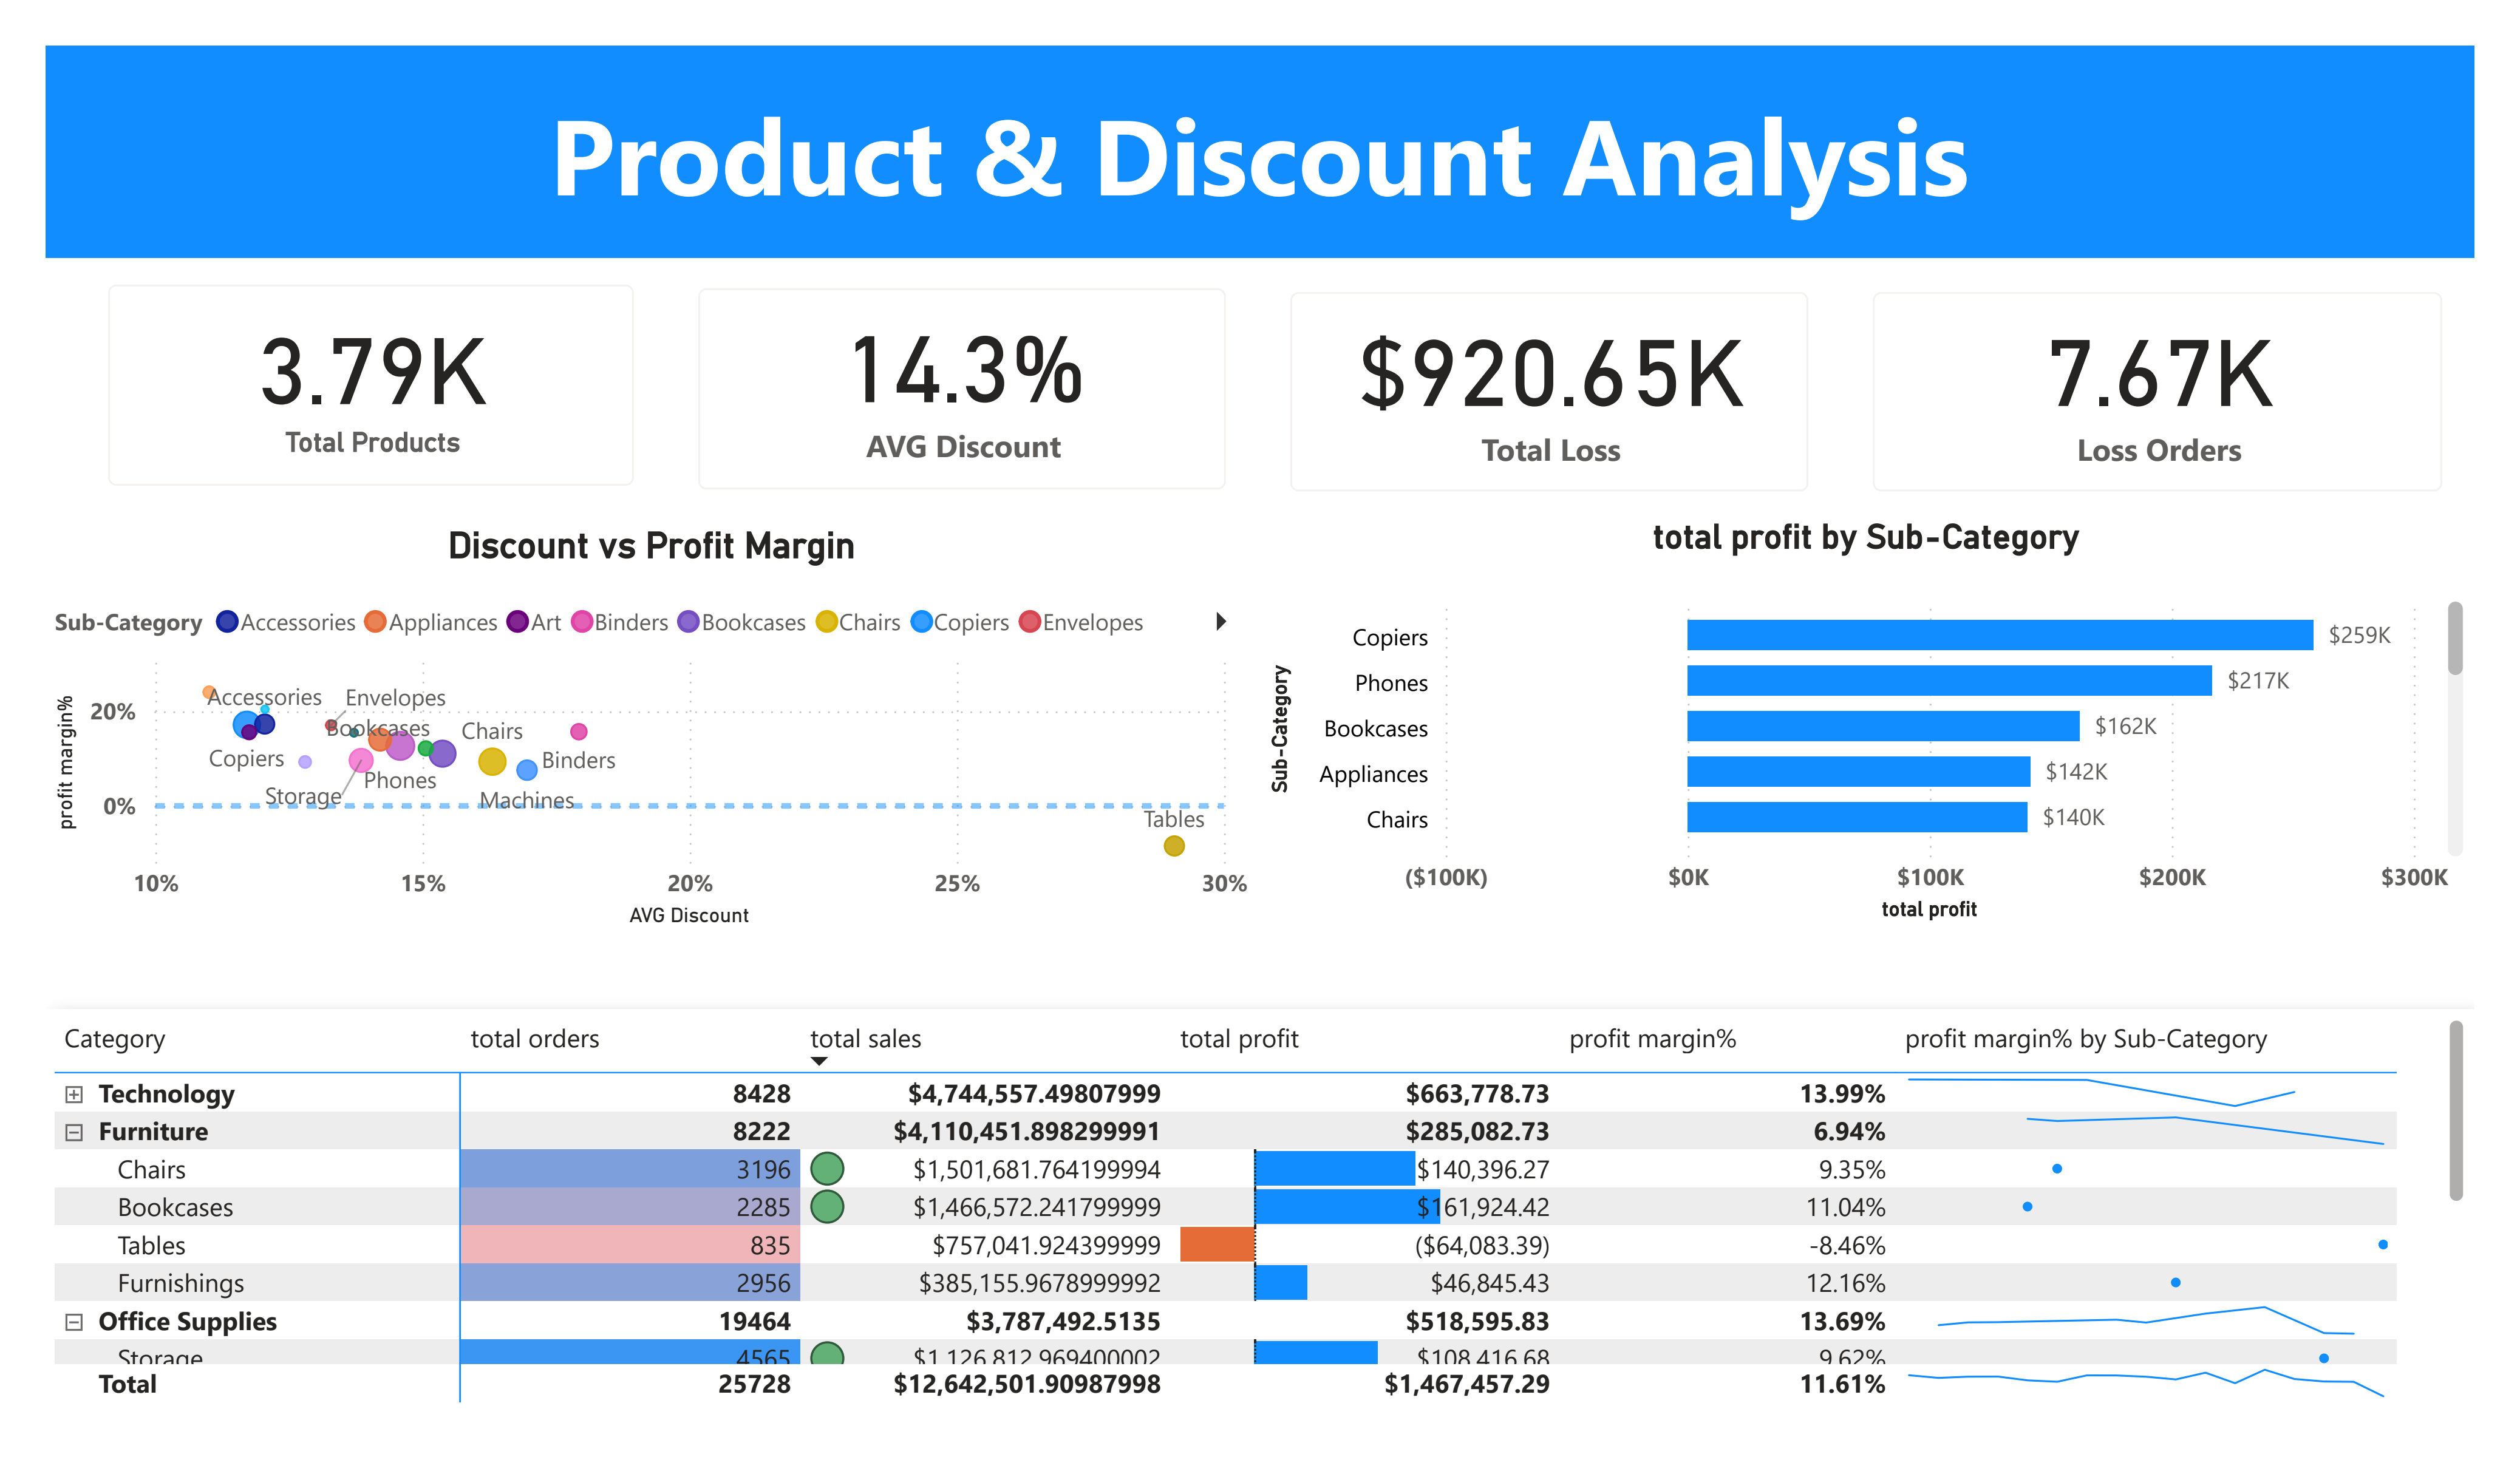

This screenshot's page, from the dashboard's own definition file:
{"tool":"powerbi","page":{"name":"product & discount ","canvas":[1280,720],"ordinal":1},"visuals":[{"type":"cardVisual","fields":{"Data":["Fact Sales.Total Products"]},"box":[16.3,109,310.5,139.8],"z":0},{"type":"cardVisual","fields":{"Data":["Fact Sales.AVG Discount"]},"box":[326.9,110.8,312.3,139.8],"z":1000},{"type":"cardVisual","fields":{"Data":["Fact Sales.TOTAL LOSE"]},"box":[639.2,112.6,306.9,139.8],"z":2000},{"type":"cardVisual","fields":{"Data":["Fact Sales.LOSSE ORDERS"]},"box":[946.1,112.6,334.1,139.8],"z":3000},{"type":"scatterChart","title":"Discount vs Profit Margin","fields":{"Y":["Fact Sales.profit margin%"],"Series":["Dim Product.Sub-Category"],"Size":["Sum(Fact Sales.Sales)"],"X":["Fact Sales.AVG Discount"]},"box":[0,252.4,639.2,217.9],"z":4000},{"type":"clusteredBarChart","fields":{"Category":["Dim Product.Sub-Category"],"Y":["Fact Sales.total profit"]},"box":[640,248,639,218],"z":5000},{"type":"pivotTable","fields":{"Rows":["Dim Product.Category","Dim Product.Sub-Category"],"Values":["Fact Sales.total orders","Fact Sales.total sales","Fact Sales.total profit","Fact Sales.profit margin%","SparklineData(Fact Sales.profit margin%_[Dim Product.Sub-Category])"]},"box":[0,508,1280,212],"z":6000},{"type":"textbox","box":[0,0,1280,112],"z":7000}]}

Visuals, with their boxes on the page's 1280x720 design canvas (x1, y1, x2, y2). These are canvas units, not pixel positions in the 2520x1457 screenshot, which may show the page scaled, cropped or inside an application window:
cardVisual - Fact Sales.Total Products: [left=16, top=109, right=327, bottom=249]
cardVisual - Fact Sales.AVG Discount: [left=327, top=111, right=639, bottom=251]
cardVisual - Fact Sales.TOTAL LOSE: [left=639, top=113, right=946, bottom=252]
cardVisual - Fact Sales.LOSSE ORDERS: [left=946, top=113, right=1280, bottom=252]
"Discount vs Profit Margin" scatterChart: [left=0, top=252, right=639, bottom=470]
clusteredBarChart - Dim Product.Sub-Category x Fact Sales.total profit: [left=640, top=248, right=1279, bottom=466]
pivotTable - Dim Product.Category x Dim Product.Sub-Category: [left=0, top=508, right=1280, bottom=720]
textbox: [left=0, top=0, right=1280, bottom=112]
